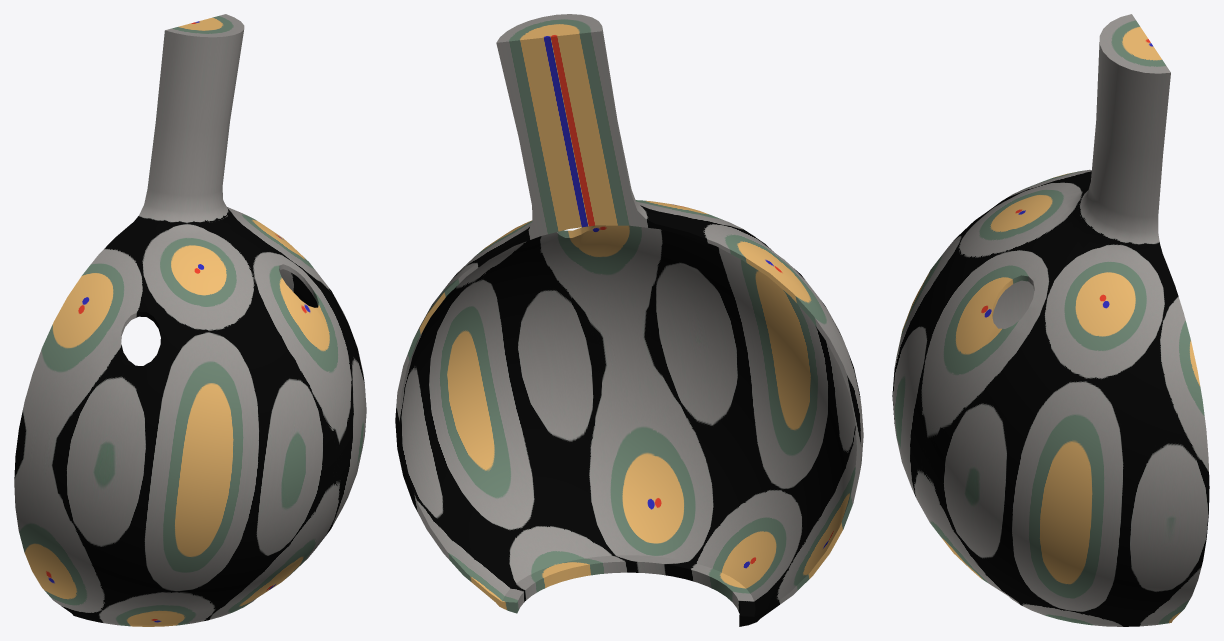
File: SighEsc2.obj
3 views of the same model, side by side, from view 1: azimuth 30°, elevation 25°; view 2: azimuth 150°, elevation 25°; view 3: azimuth 270°, elevation 25° (orthographic). The views are drawn at different scales.
Parts seen in each view (by area): view 1: SighEsc2; view 2: SighEsc2; view 3: SighEsc2.
Boxes of the visible parts, x1,y1,x2,y2 form: SighEsc2: [14, 14, 366, 626]; SighEsc2: [395, 14, 863, 626]; SighEsc2: [892, 14, 1209, 626].
Bounding box in the file's own units: 95.25 × 136 × 67.88.
